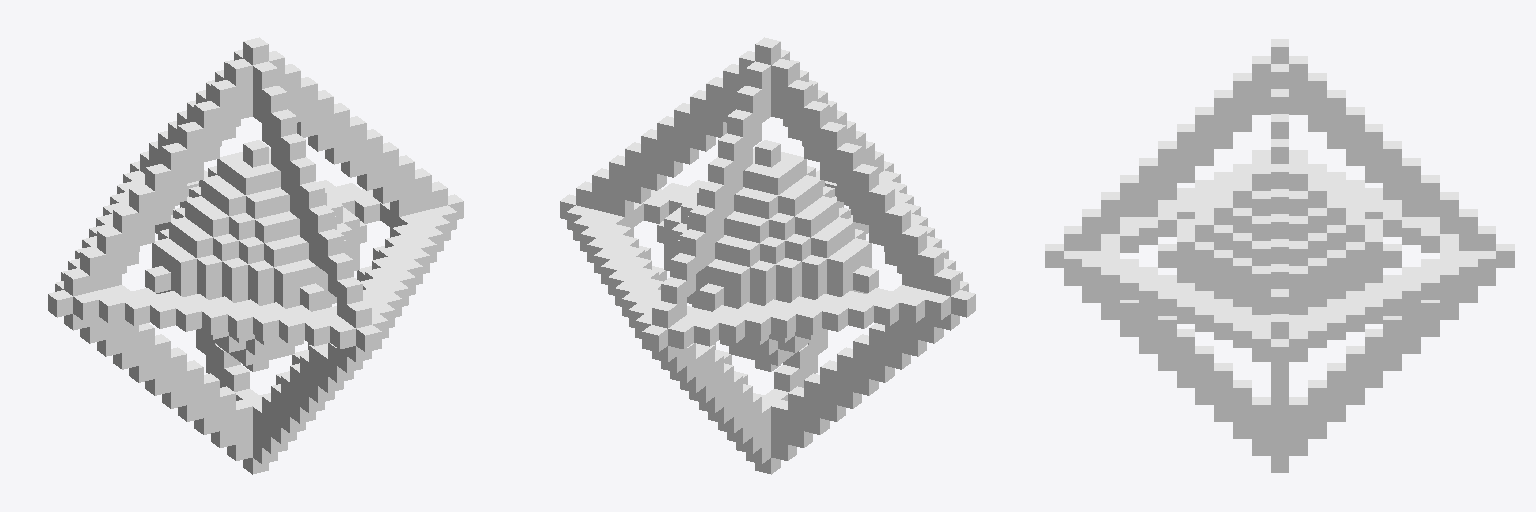
File: RFPylon.obj
The picture shows the model from 3 angles: view 1: azimuth 30°, elevation 25°; view 2: azimuth 150°, elevation 25°; view 3: azimuth 270°, elevation 25°; orthographic projection.
Size of the model in its own units: 1 by 1 by 1.